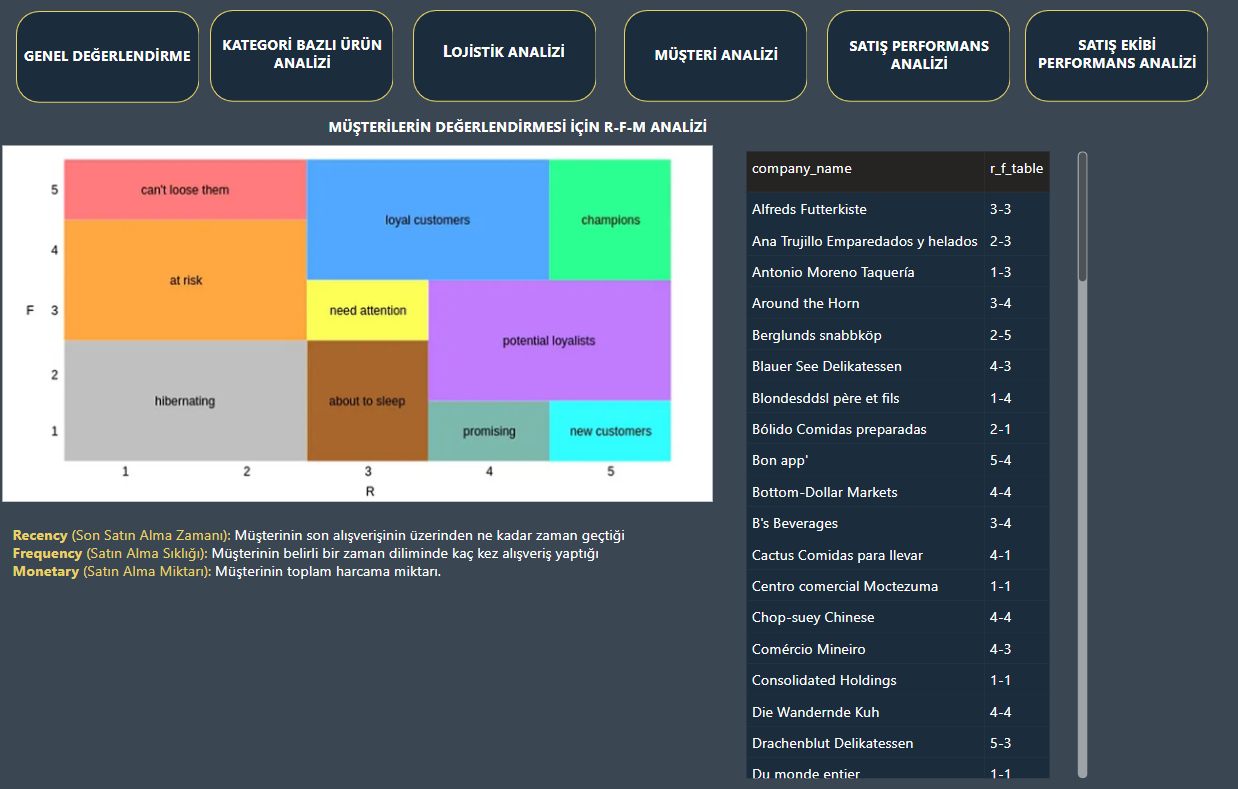

What the dashboard file says about the page in this screenshot:
{"tool":"powerbi","page":{"name":"müşteri","canvas":[1150,750],"ordinal":3},"visuals":[{"type":"shape","box":[384.6,17.1,169.5,84.7],"z":0},{"type":"shape","box":[578.8,17.1,169.5,84.7],"z":1000},{"type":"shape","box":[766.3,17.1,169.5,84.7],"z":2000},{"type":"shape","box":[949.1,17.1,169.5,84.7],"z":3000},{"type":"shape","box":[197.1,17.1,169.5,84.7],"z":4000},{"type":"textbox","box":[300.8,110.4,555,33.3],"z":5000},{"type":"textbox","box":[197.1,35.2,170.4,50.5],"z":6000},{"type":"image","box":[0,136.4,665.6,340.9],"z":7000},{"type":"textbox","box":[383.7,39,169.5,32.4],"z":8000},{"type":"tableEx","fields":{"Values":["rfm_analizi.company_name","rfm_analizi.r_f_table"]},"box":[686.3,143.2,326,589.3],"z":9000},{"type":"textbox","box":[578.8,44.7,170.4,26.7],"z":10000},{"type":"textbox","box":[9.2,487.5,665.6,72.3],"z":11000},{"type":"textbox","box":[766.3,36.2,170.4,49.5],"z":12000},{"type":"textbox","box":[949.1,35.2,170.4,50.5],"z":13000},{"type":"shape","box":[17.1,18.1,169.5,84.7],"z":14000},{"type":"textbox","box":[18,45.6,168.5,49.5],"z":15000}]}

Visuals, with their boxes in screenshot pixels (x1, y1, x2, y2), scaled from the page's 1150x750 canvas onto the 1238x789 screenshot:
shape: 414, 18, 597, 107
shape: 623, 18, 806, 107
shape: 825, 18, 1007, 107
shape: 1022, 18, 1204, 107
shape: 212, 18, 395, 107
textbox: 324, 116, 921, 151
textbox: 212, 37, 396, 90
image: 0, 143, 717, 502
textbox: 413, 41, 596, 75
tableEx - rfm_analizi.company_name x rfm_analizi.r_f_table: 739, 151, 1090, 771
textbox: 623, 47, 807, 75
textbox: 10, 513, 726, 589
textbox: 825, 38, 1008, 90
textbox: 1022, 37, 1205, 90
shape: 18, 19, 201, 108
textbox: 19, 48, 201, 100
